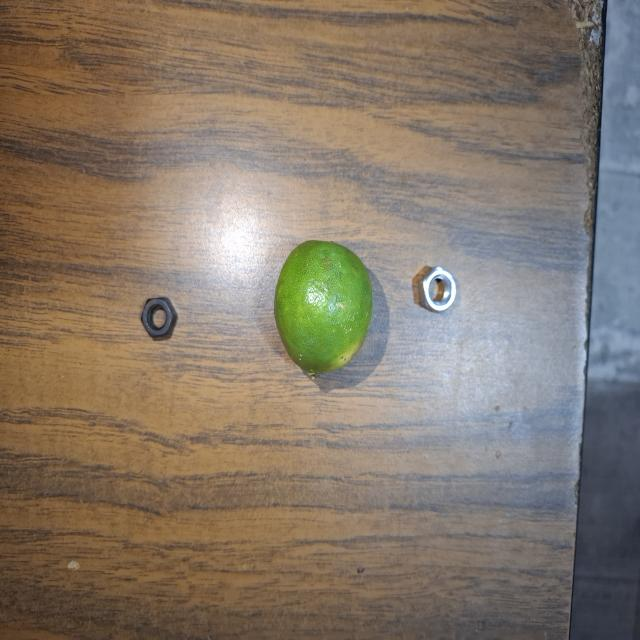limon: (276, 234, 374, 392)
milimetrico: (136, 286, 188, 359)
tuerca: (412, 260, 467, 324)
